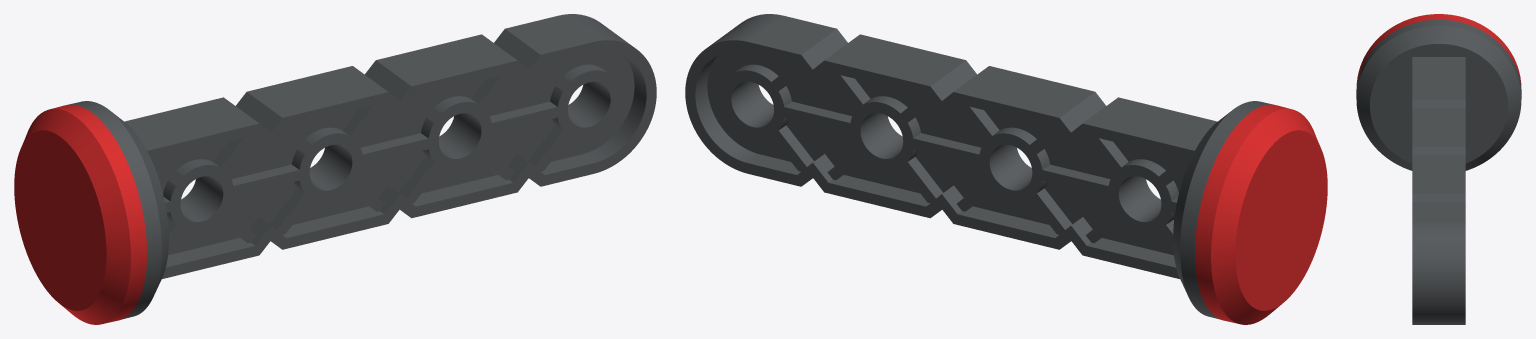
3 views of the same model, side by side, from view 1: azimuth 30°, elevation 25°; view 2: azimuth 150°, elevation 25°; view 3: azimuth 270°, elevation 25° (orthographic). The views are drawn at different scales.
Parts seen in each view (by area): view 1: NAUO1, NAUO3; view 2: NAUO1, NAUO3; view 3: NAUO1, NAUO3.
Boxes of the visible parts, x1,y1,x2,y2 form: NAUO1: (69, 14, 656, 319); NAUO3: (14, 104, 146, 324); NAUO1: (685, 14, 1272, 319); NAUO3: (1195, 104, 1327, 324); NAUO1: (1356, 19, 1521, 324); NAUO3: (1356, 14, 1521, 85).
Size of the model in its own units: 0.0569 by 0.0189 by 0.0189.
